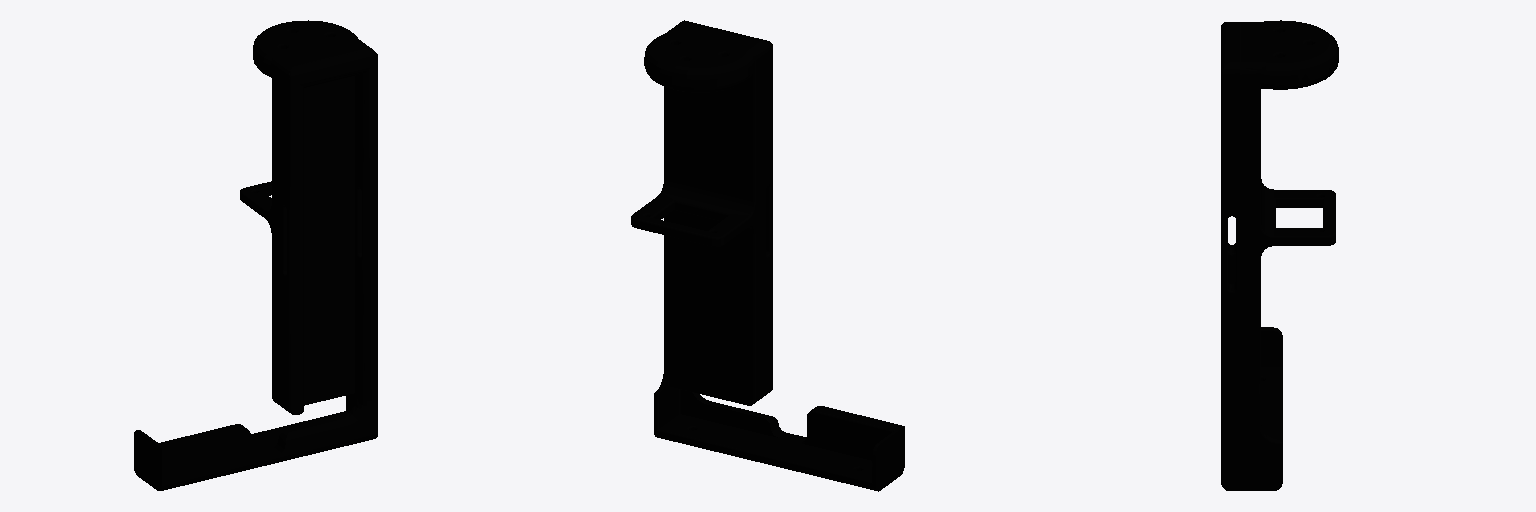
The robot description file, URDF, robot "EndEffector3":
<?xml version="1.0" encoding="utf-8"?>
<!-- This URDF was automatically created by SolidWorks to URDF Exporter! Originally created by Stephen Brawner (brawner@gmail.com) 
     Commit Version: 1.6.0-4-g7f85cfe  Build Version: 1.6.7995.38578
     For more information, please see http://wiki.ros.org/sw_urdf_exporter -->
<robot
  name="EndEffector3">
  <link
    name="EE">
    <inertial>
      <origin
        xyz="-0.00845795986317842 -0.0148716021834605 -0.121640388388389"
        rpy="0 0 0" />
      <mass
        value="0.290093717112901" />
      <inertia
        ixx="0.00206617343648101"
        ixy="-1.21726527503598E-05"
        ixz="-0.000282159235580759"
        iyy="0.00230784220584556"
        iyz="-8.95778966186486E-05"
        izz="0.000320670531370914" />
    </inertial>
    <visual>
      <origin
        xyz="0 0 0"
        rpy="0 0 0" />
      <geometry>
        <mesh
          filename="package://EndEffector3/meshes/EE.STL" />
      </geometry>
      <material
        name="">
        <color
          rgba="0.0196078431372549 0.0196078431372549 0.0196078431372549 1" />
      </material>
    </visual>
    <collision>
      <origin
        xyz="0 0 0"
        rpy="0 0 0" />
      <geometry>
        <mesh
          filename="package://EndEffector3/meshes/EE.STL" />
      </geometry>
    </collision>
  </link>
</robot>

--- What the picture shows (computed from the rendered views, not written in the file) ---
3 views of the same robot in one strip: view 1: azimuth 30°, elevation 25°; view 2: azimuth 150°, elevation 25°; view 3: azimuth 270°, elevation 25° (orthographic).
Robot: EndEffector3 — 1 links, 0 joints (none); root link EE; default pose: all joints at 0.
Links seen in each view (by area): view 1: EE; view 2: EE; view 3: EE.
Link boxes in pixels (x1=…): EE: x1=134, y1=20, x2=377, y2=490; EE: x1=631, y1=20, x2=904, y2=491; EE: x1=1221, y1=20, x2=1338, y2=490.
Size in the robot's own frame: 0.1466 by 0.063 by 0.2501 metres.
1 mesh visuals loaded from 1 distinct referenced files (1 binary STL).
